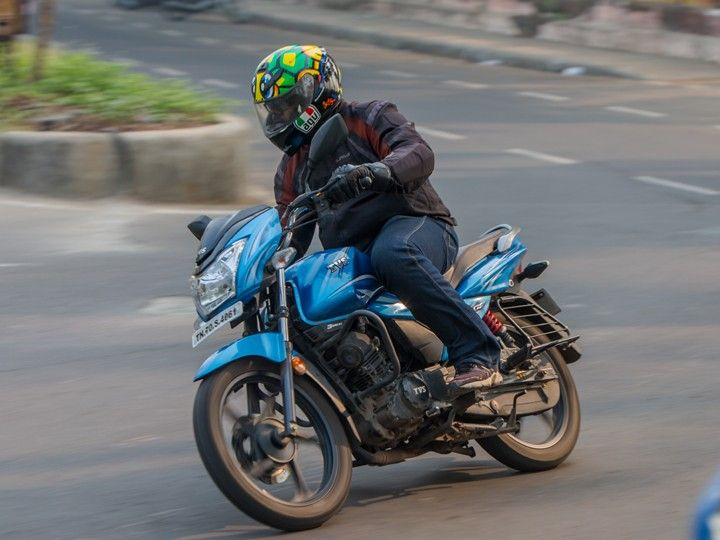helmet: (249, 48, 345, 134)
